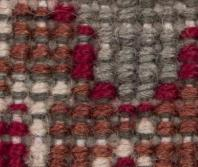Knot: (95, 85, 116, 98), (54, 22, 70, 36), (97, 23, 113, 37), (8, 82, 25, 95), (113, 144, 130, 157), (52, 82, 70, 94), (27, 102, 45, 114), (157, 62, 175, 74), (68, 64, 83, 78), (73, 93, 90, 105), (27, 123, 45, 134), (10, 44, 24, 58), (34, 43, 48, 57), (181, 119, 196, 132), (93, 103, 109, 115), (137, 88, 154, 99), (98, 8, 112, 21), (182, 78, 197, 90), (118, 37, 134, 48), (32, 82, 48, 93), (137, 53, 154, 63), (159, 99, 172, 112), (138, 135, 150, 149), (134, 154, 149, 165), (13, 32, 28, 43), (178, 154, 193, 165), (33, 62, 48, 73), (99, 71, 114, 82), (55, 46, 68, 58), (178, 66, 191, 78), (74, 82, 88, 93), (50, 123, 64, 134), (34, 32, 48, 43), (157, 123, 171, 134), (93, 123, 107, 134), (53, 71, 67, 82), (91, 157, 110, 165), (8, 123, 21, 134), (77, 33, 90, 44), (139, 36, 153, 46), (11, 61, 23, 72), (106, 134, 118, 145), (163, 87, 175, 98), (10, 144, 22, 155), (63, 135, 74, 147), (162, 19, 173, 31), (178, 49, 189, 61), (118, 129, 131, 139), (183, 97, 196, 107), (154, 145, 164, 158), (174, 98, 183, 112), (74, 123, 85, 134), (181, 134, 192, 145), (118, 113, 129, 124), (172, 1, 183, 12), (53, 103, 64, 114), (183, 17, 195, 27), (159, 134, 171, 144), (138, 100, 150, 110), (185, 27, 197, 37), (12, 72, 24, 82), (158, 113, 170, 123), (59, 12, 71, 22), (118, 157, 133, 165), (75, 105, 87, 115), (171, 115, 180, 128), (95, 135, 106, 145), (141, 22, 152, 32), (76, 23, 87, 33), (35, 17, 45, 28), (21, 134, 31, 145), (162, 3, 172, 14), (64, 154, 74, 165), (123, 22, 133, 33), (173, 17, 183, 28), (16, 13, 26, 24), (85, 135, 94, 147), (119, 103, 131, 112), (74, 135, 84, 145), (21, 113, 31, 123), (22, 155, 32, 165), (172, 134, 181, 145), (90, 1, 99, 12), (53, 134, 62, 145), (153, 2, 162, 13), (109, 113, 118, 124), (95, 147, 107, 155), (11, 112, 20, 122), (42, 134, 51, 144), (33, 135, 42, 145), (149, 113, 158, 123), (152, 21, 160, 32), (74, 158, 86, 165), (11, 134, 19, 144), (153, 42, 161, 52), (151, 134, 158, 145), (12, 97, 23, 104), (133, 22, 140, 32), (176, 88, 183, 98), (155, 159, 165, 165), (50, 159, 59, 165), (192, 134, 197, 144)
